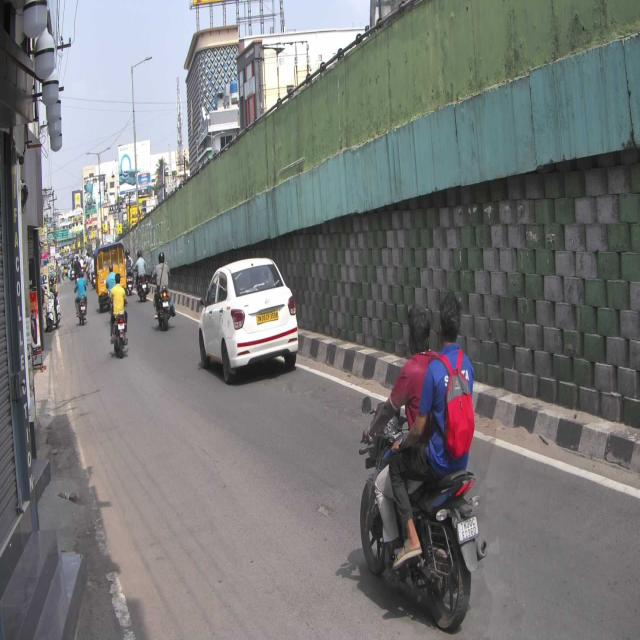double_rider: (359, 296, 489, 630)
